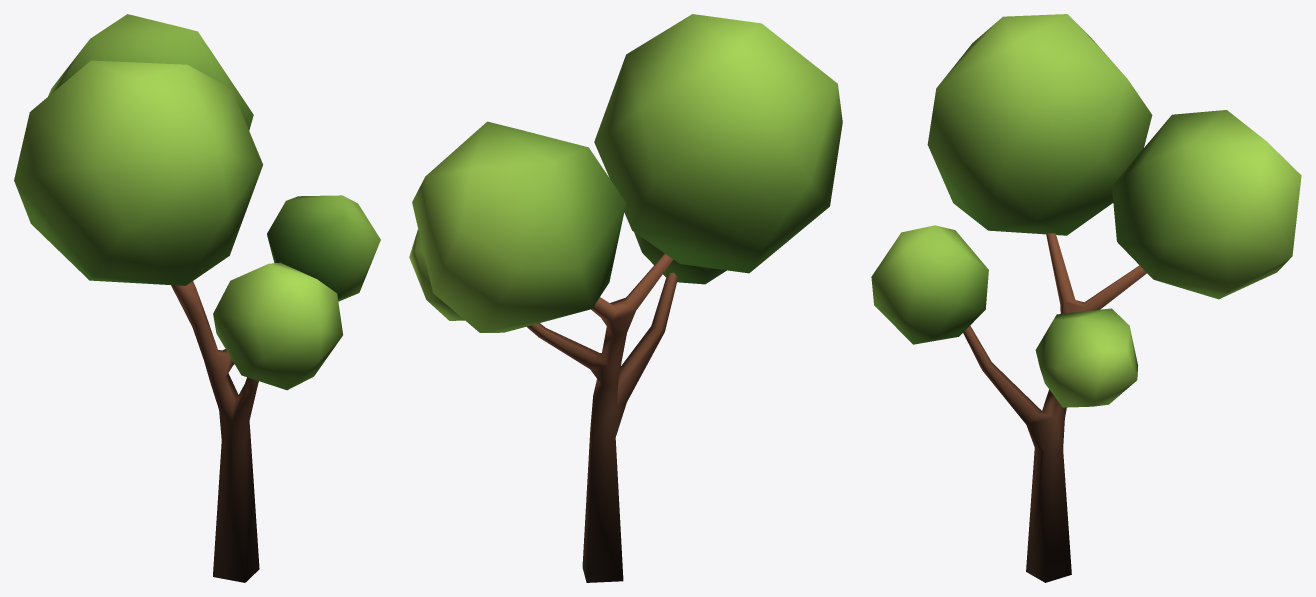
Rendered from tree2.obj.
3 views of the same model, side by side, from view 1: azimuth 30°, elevation 25°; view 2: azimuth 150°, elevation 25°; view 3: azimuth 270°, elevation 25° (orthographic). The views are drawn at different scales.
Parts seen in each view (by area): view 1: TreeR2; view 2: TreeR2; view 3: TreeR2.
Boxes of the visible parts, x1=… form: TreeR2: x1=14, y1=14, x2=380, y2=582; TreeR2: x1=409, y1=14, x2=842, y2=582; TreeR2: x1=871, y1=14, x2=1301, y2=582.
Size of the model in its own units: 5.75 by 8.04 by 6.28.
1 material, 1 textured.
